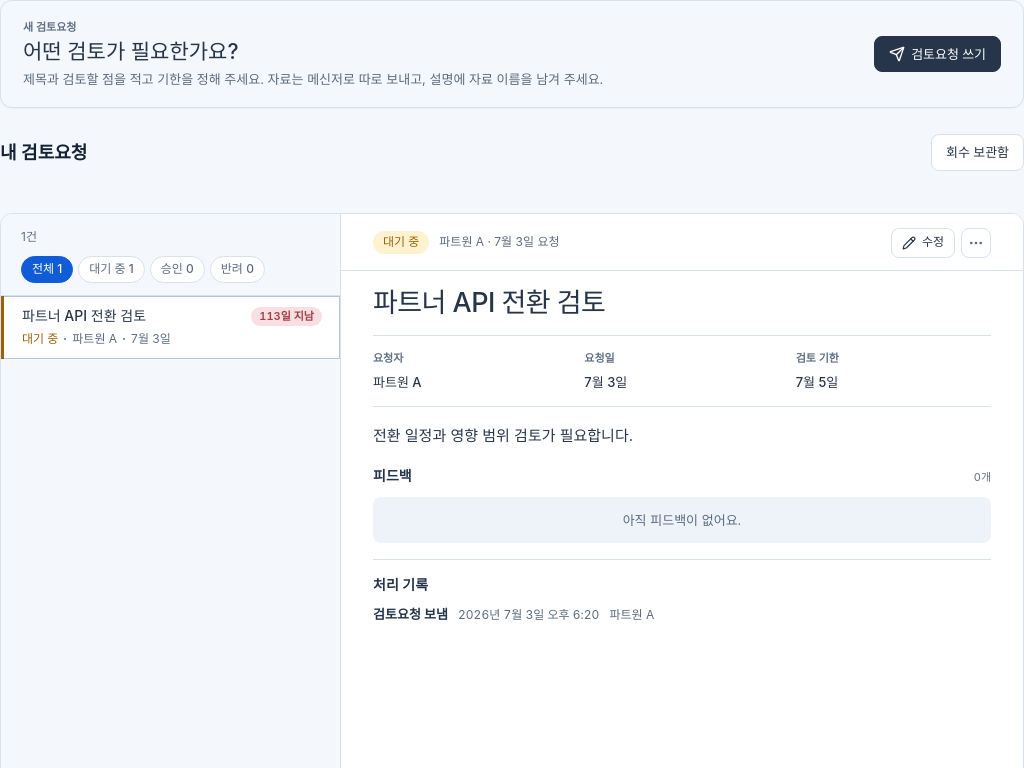
Test: ReviewsPanel › restores a saved draft when opening the composer
Click the button "검토요청 쓰기". click: coordinates (938, 54)
box: [874,36,1001,72]
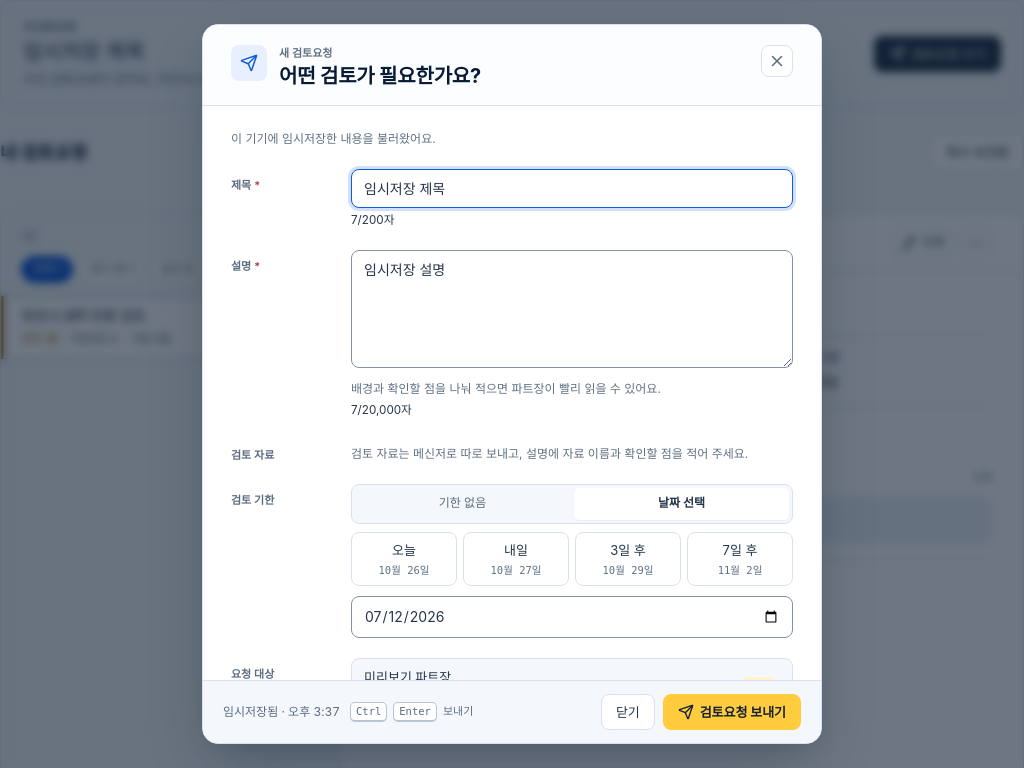
Now the field labelled "제목*" holds "임시저장 제목", box [351,169,793,208]
Now the text box labelled "설명*" holds "임시저장 설명", box [351,250,793,368]
Now the text "이 기기에 임시저장한 내용을 불러왔어요." is shown, box [231,131,436,146]
